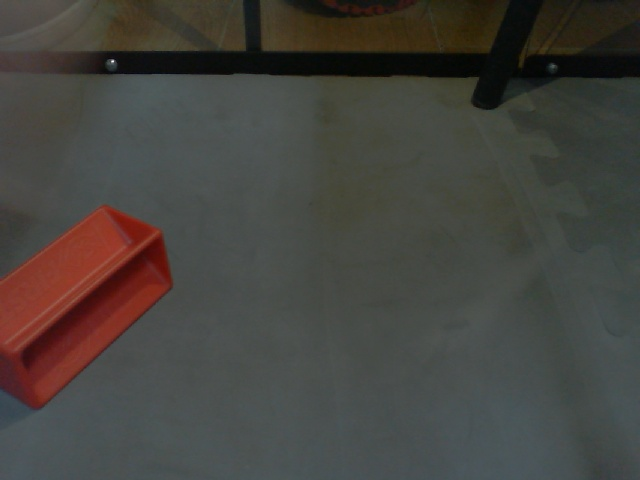RedSample: (1, 200, 175, 411)
